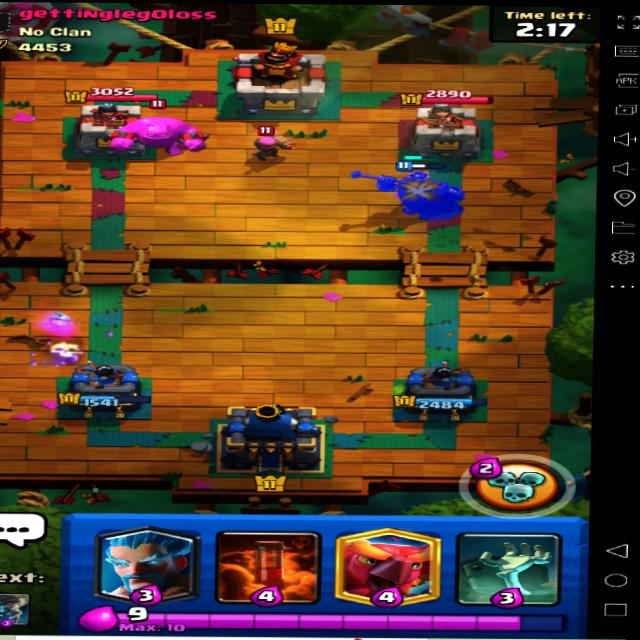electro-golem: (100, 95, 213, 155)
firecracker: (226, 120, 298, 165)
